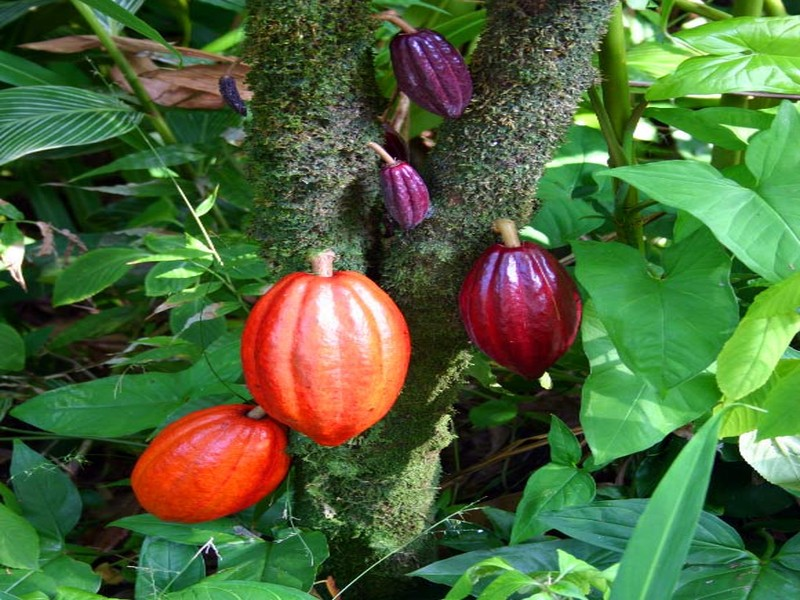Cacaopod: (239, 270, 413, 445), (459, 243, 586, 378)
